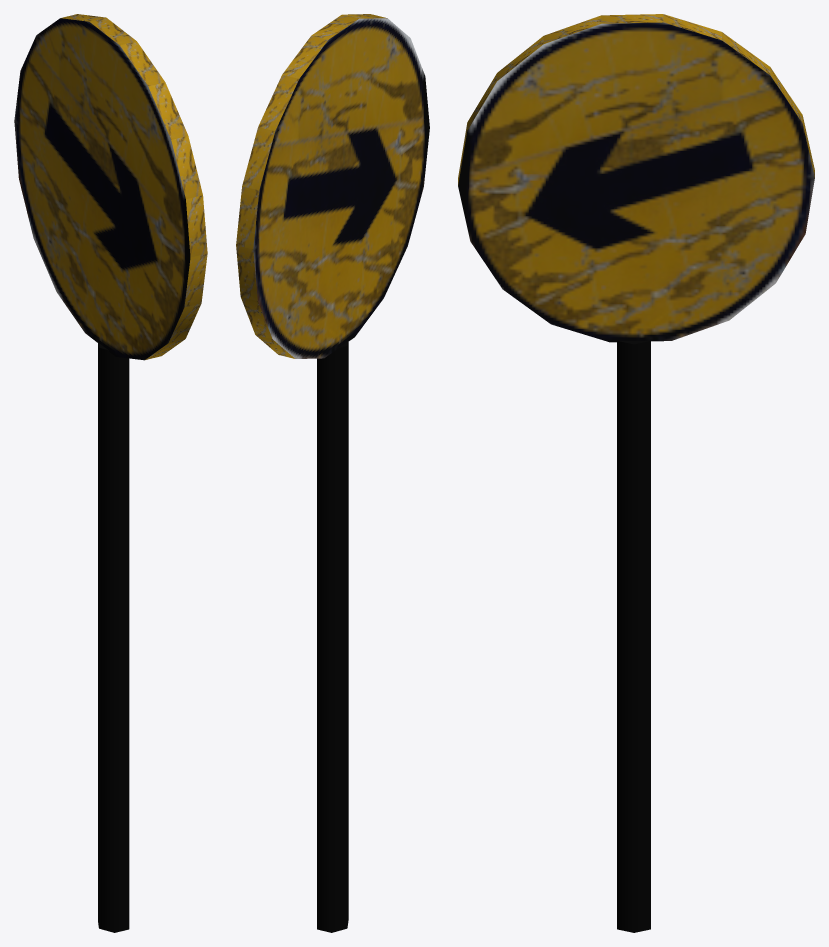
Rendered from traffic sign5.FBX.
The picture shows the model from 3 angles, left to right: view 1: azimuth 30°, elevation 25°; view 2: azimuth 150°, elevation 25°; view 3: azimuth 270°, elevation 25°; orthographic projection.
Parts seen in each view (by area): view 1: Cylinder002; view 2: Cylinder002; view 3: Cylinder002.
Boxes of the visible parts, <box> form: Cylinder002: <box>14,14,207,932</box>; Cylinder002: <box>236,14,429,932</box>; Cylinder002: <box>458,14,814,932</box>.
Bounding box in the file's own units: 0.64 × 18.8 × 6.7.
